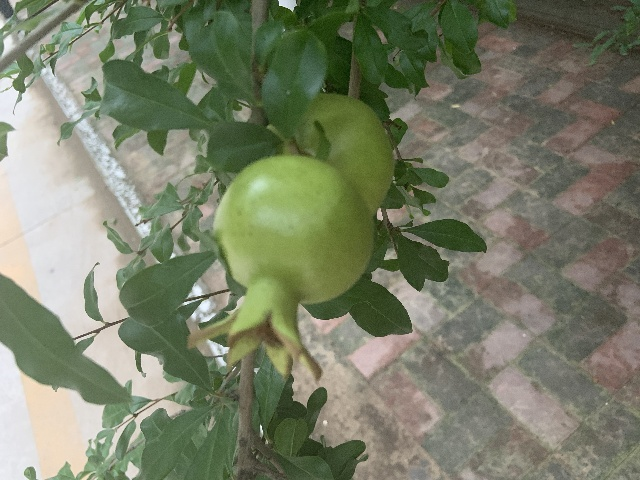mid-growth: (187, 154, 375, 383), (267, 93, 394, 216)
